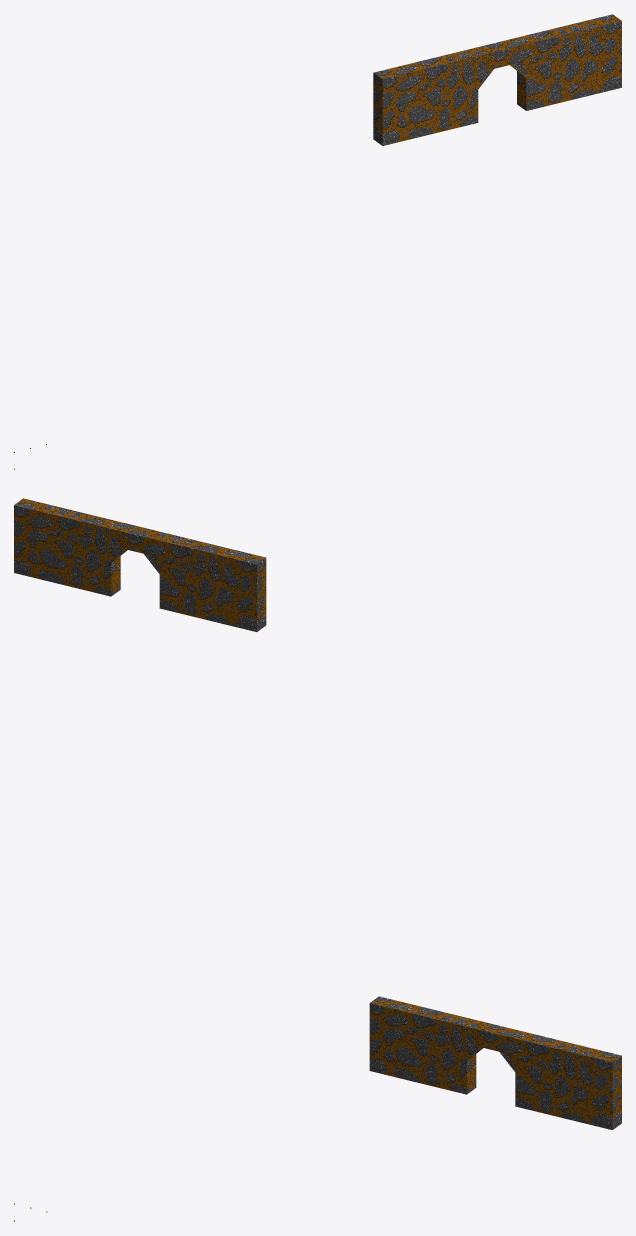
File: BrokenWallHole.gltf
The picture shows the model from 3 angles, top to bottom: view 1: azimuth 30°, elevation 25°; view 2: azimuth 150°, elevation 25°; view 3: azimuth 330°, elevation 25°; orthographic projection.
Parts seen in each view (by area): view 1: default; view 2: default; view 3: default.
Part boxes in pixels (<box>): default: <box>14,14,621,469</box>; default: <box>14,498,266,631</box>; default: <box>14,996,621,1221</box>.
Size of the model in its own units: 37.53 by 18.53 by 1.
1 material, 1 textured.
